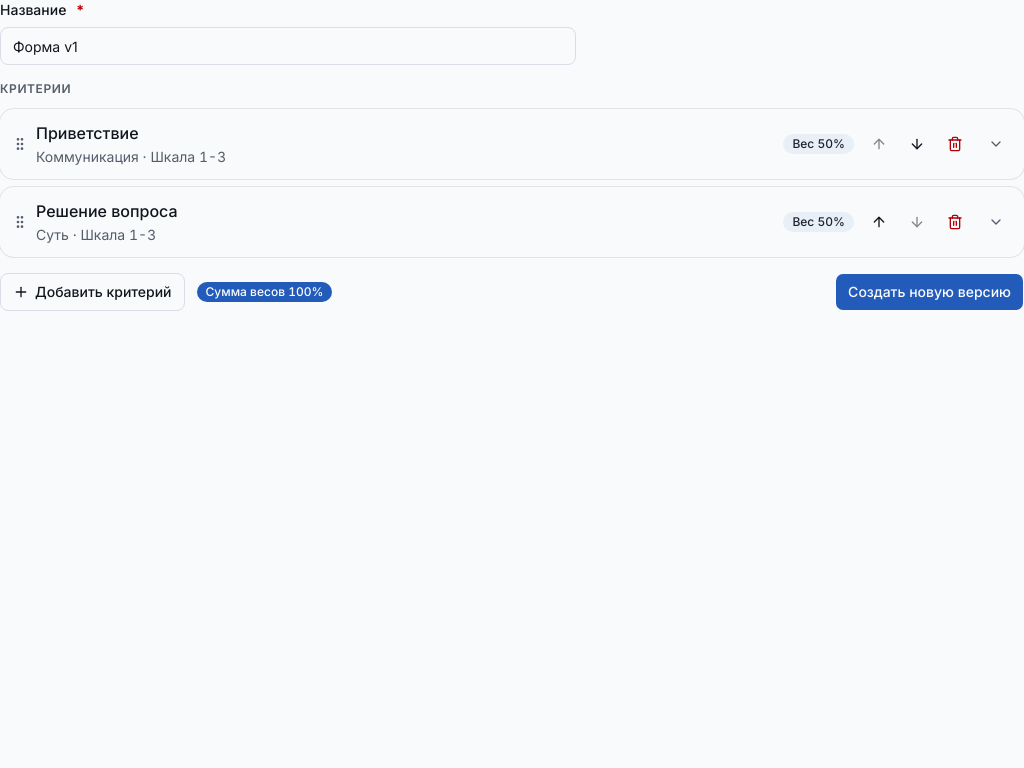
Test case: scorecard version form destructive actions › removes the criterion after the deletion is confirmed
The image size is (1024, 768).
Step 1. Click the 1st button titled "Удалить" → click(955, 144), box [938,127,972,161]
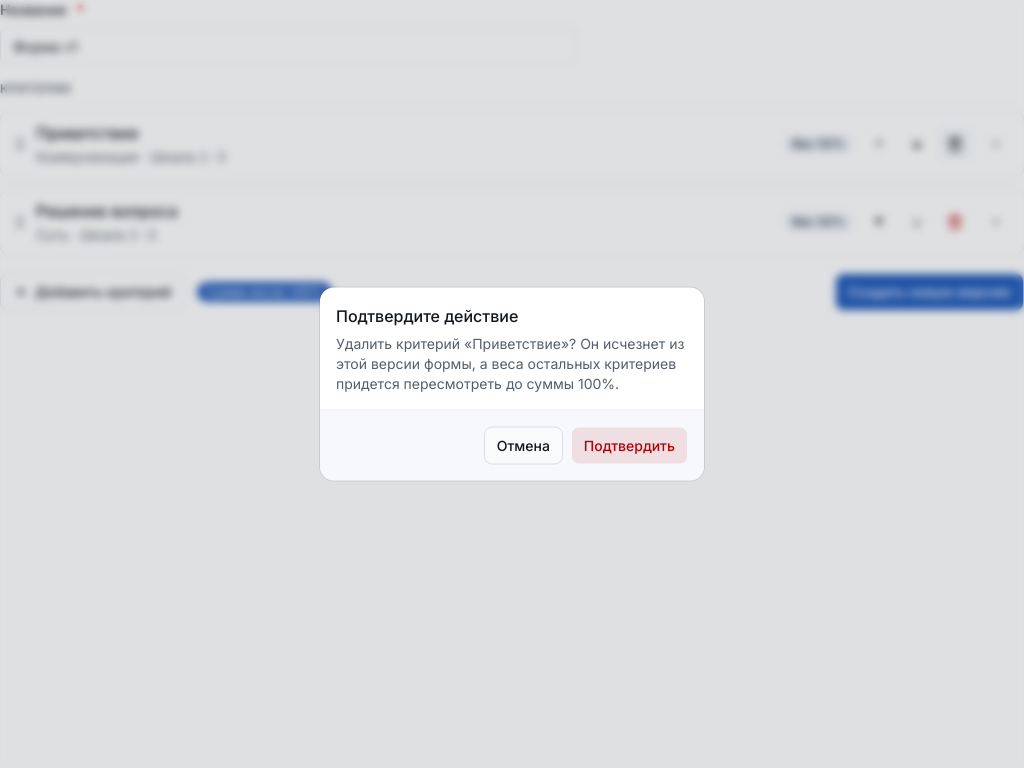
Step 2. Click the button "Подтвердить" → click(629, 446), box [571,426,688,464]
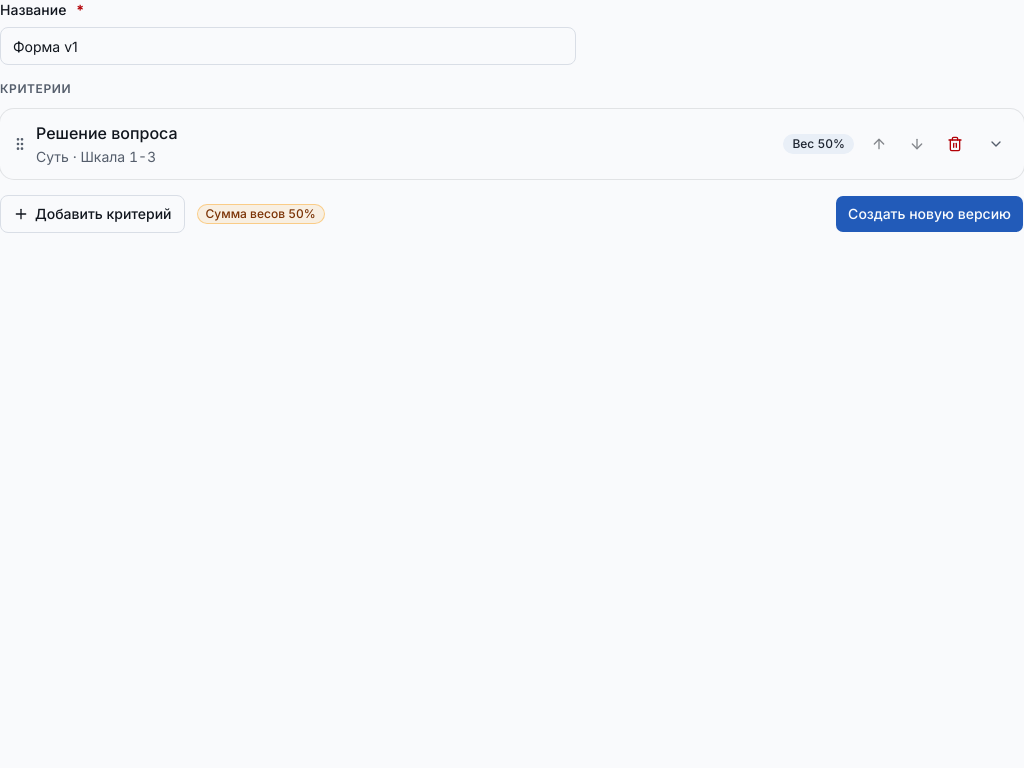
Result: the dialog is gone
Result: the button "Приветствие" is gone
Result: the number of buttons titled "Удалить" is 1 at [938,127,972,161]
